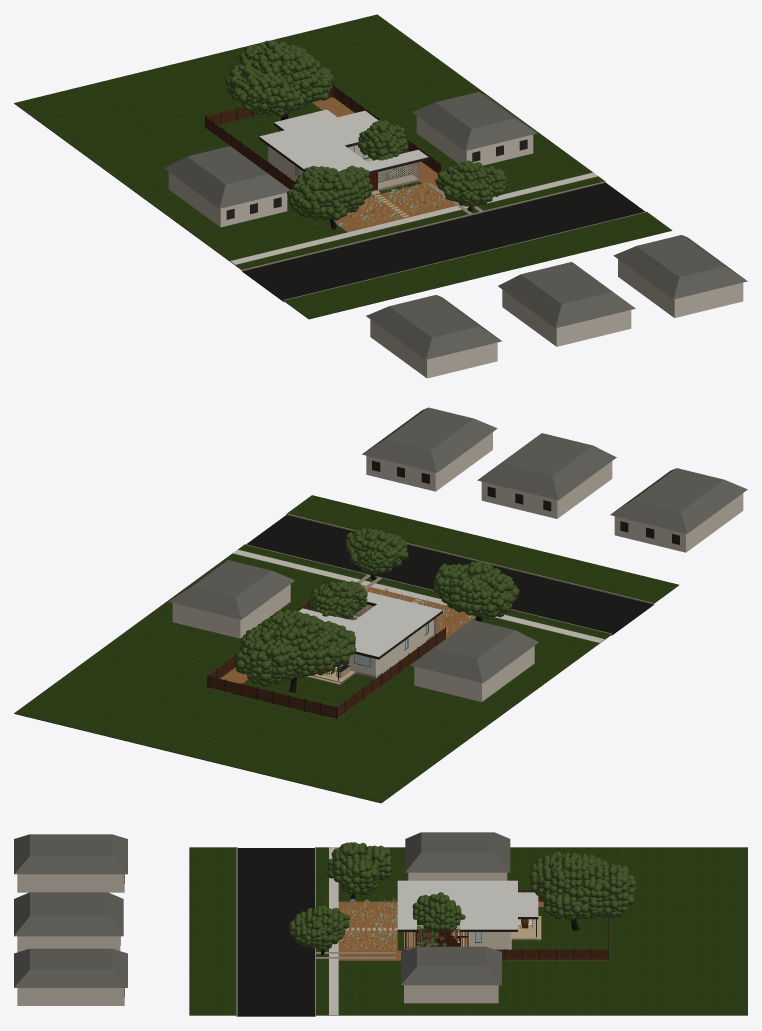
The model's file is casa01.glb.
The picture shows the model from 3 angles, top to bottom: view 1: azimuth 30°, elevation 25°; view 2: azimuth 150°, elevation 25°; view 3: azimuth 270°, elevation 25°; orthographic projection. The views are drawn at different scales.
Parts seen in each view (by area): view 1: Ground, Neighbors, tree_7_canopy, Roof, tree_11_canopy, tree_19_canopy, Cedar fences, tree_3_canopy, Cobogo screen, Plants feather grass; view 2: Ground, Neighbors, tree_7_canopy, Roof, tree_11_canopy, Cedar fences, tree_19_canopy, tree_3_canopy, Walls; view 3: Ground, Neighbors, tree_7_canopy, Roof, tree_11_canopy, tree_19_canopy, tree_3_canopy, Cedar fences, Limestone pavers, Cedar vertical, Plants feather grass, Walls (+2 smaller).
Part boxes in pixels (x1,y1,x2,y2): Ground: (14,14,672,319); Neighbors: (164,92,747,378); tree_7_canopy: (225,40,334,117); Roof: (259,109,428,173); tree_11_canopy: (287,165,373,220); tree_19_canopy: (435,160,508,207); Cedar fences: (205,84,440,189); tree_3_canopy: (357,120,408,160); Cobogo screen: (378,162,419,188); Plants feather grass: (352,183,449,225); Ground: (14,495,678,803); Neighbors: (168,407,747,701); tree_7_canopy: (235,609,356,686); Roof: (298,591,442,659); tree_11_canopy: (433,560,519,619); Cedar fences: (207,600,445,719); tree_19_canopy: (345,528,408,575); tree_3_canopy: (310,580,367,619); Walls: (347,620,433,678); Ground: (189,847,747,1016); Neighbors: (14,832,510,1005); tree_7_canopy: (529,851,636,920); Roof: (397,880,538,931); tree_11_canopy: (327,842,391,895); tree_19_canopy: (289,905,349,950); tree_3_canopy: (412,892,465,932); Cedar fences: (404,889,608,960); Limestone pavers: (346,916,541,948); Cedar vertical: (405,929,468,948); Plants feather grass: (340,899,397,951); Walls: (468,932,511,949).
Size of the model in its own units: 56.39 by 11.59 by 104.
Materials: 38 (16 with a texture image).
